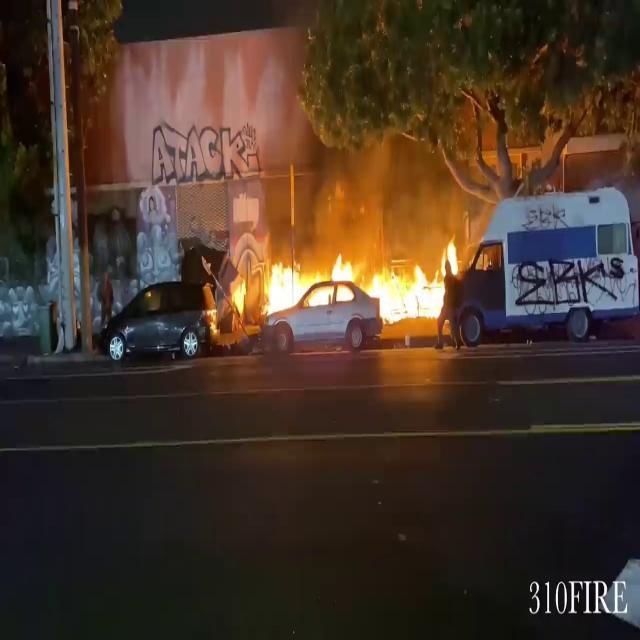Fire: (228, 242, 460, 336)
Smoke: (306, 119, 487, 264)
